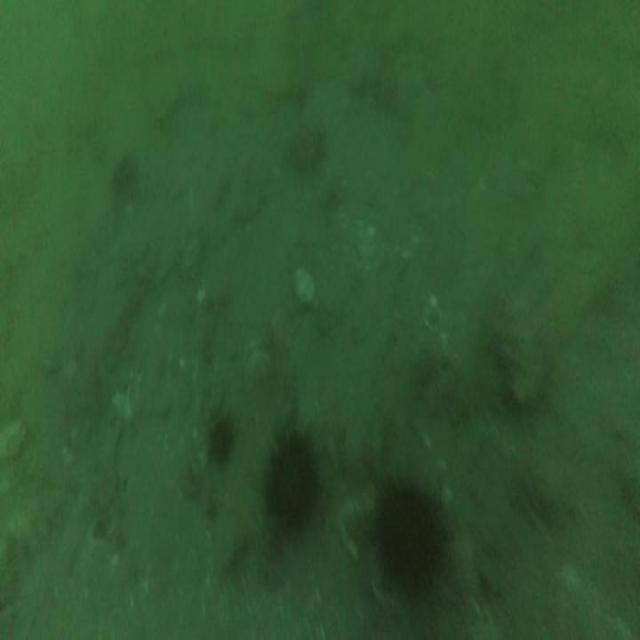echinus: (380, 487, 442, 591), (267, 434, 318, 536), (206, 420, 230, 460)
